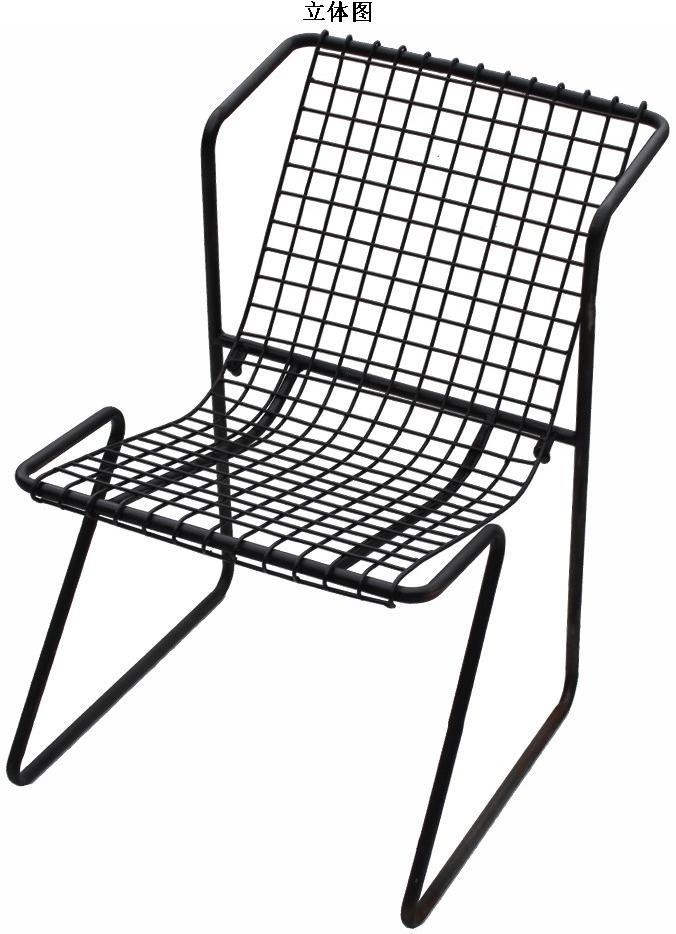obstacle: (0, 137, 673, 933), (0, 0, 673, 755)
